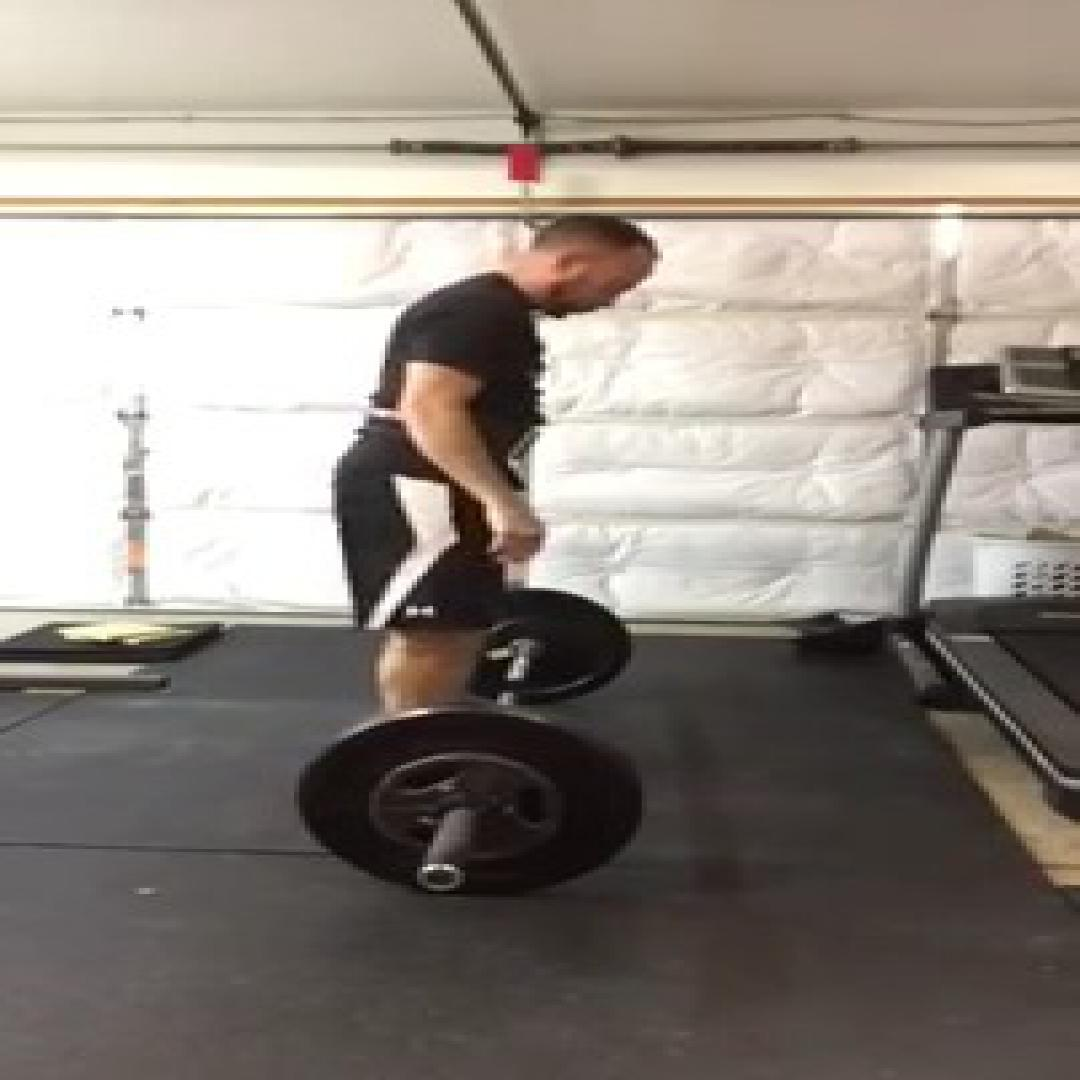Bar: (412, 861, 470, 894)
Barbell: (294, 711, 647, 897)
